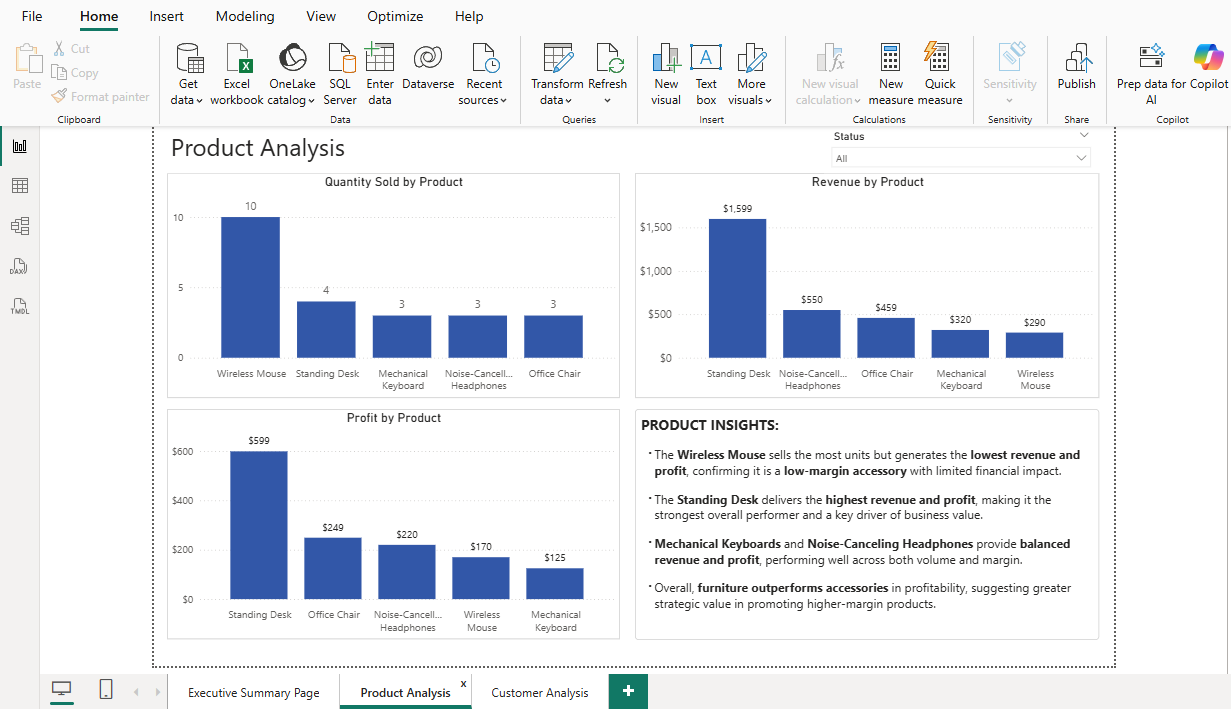

This screenshot's page, from the dashboard's own definition file:
{"tool":"powerbi","page":{"name":"Product Analysis","canvas":[1280,720],"ordinal":1},"visuals":[{"type":"clusteredColumnChart","title":"Revenue by Product","fields":{"Category":["retail_sales_products.ProductName"],"Y":["retail_sales_orderitems.Total Revenue"]},"box":[640.7,62.9,619.3,300.3],"z":0},{"type":"clusteredColumnChart","title":"Quantity Sold by Product","fields":{"Category":["retail_sales_products.ProductName"],"Y":["retail_sales_orderitems.Total Quantity Sold"]},"box":[17.2,62.9,603.5,300.3],"z":1000},{"type":"slicer","fields":{"Values":["retail_sales_orders.Status"]},"box":[893.9,0,366.1,62.9],"z":2000},{"type":"clusteredColumnChart","title":"Profit by Product","fields":{"Category":["retail_sales_products.ProductName"],"Y":["product_enrichment.Total Profit"]},"box":[17.2,377.6,603.5,307.5],"z":3000},{"type":"textbox","box":[641.3,377.3,618.7,308],"z":4000},{"type":"textbox","box":[17.2,0,253.1,62.9],"z":5000}]}

Visuals, with their boxes on the page's 1280x720 design canvas (x1, y1, x2, y2). These are canvas units, not pixel positions in the 1231x709 screenshot, which may show the page scaled, cropped or inside an application window:
"Revenue by Product" clusteredColumnChart: Rect(641, 63, 1260, 363)
"Quantity Sold by Product" clusteredColumnChart: Rect(17, 63, 621, 363)
slicer - retail_sales_orders.Status: Rect(894, 0, 1260, 63)
"Profit by Product" clusteredColumnChart: Rect(17, 378, 621, 685)
textbox: Rect(641, 377, 1260, 685)
textbox: Rect(17, 0, 270, 63)
